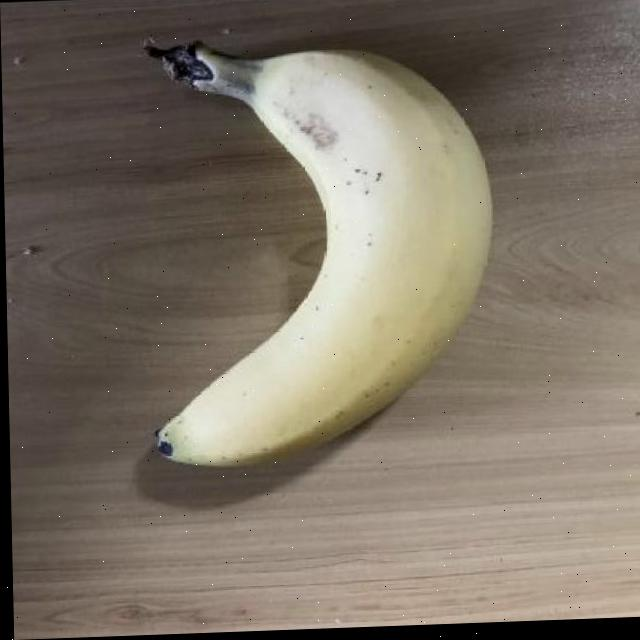banana: (137, 22, 507, 481)
